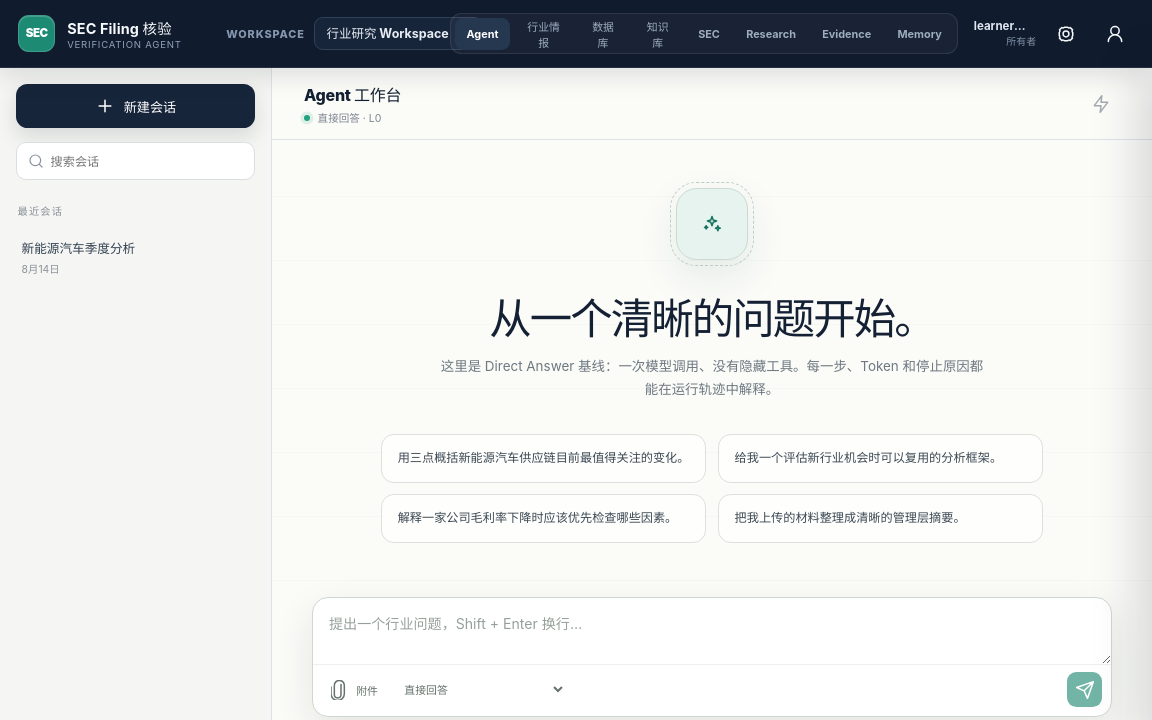
Chat Workbench › restores content and terminal status from an authoritative snapshot alone
Click the button "新能源汽车季度分析 8月14日".
click(132, 257)  # box x1=10 y1=227 x2=254 y2=288
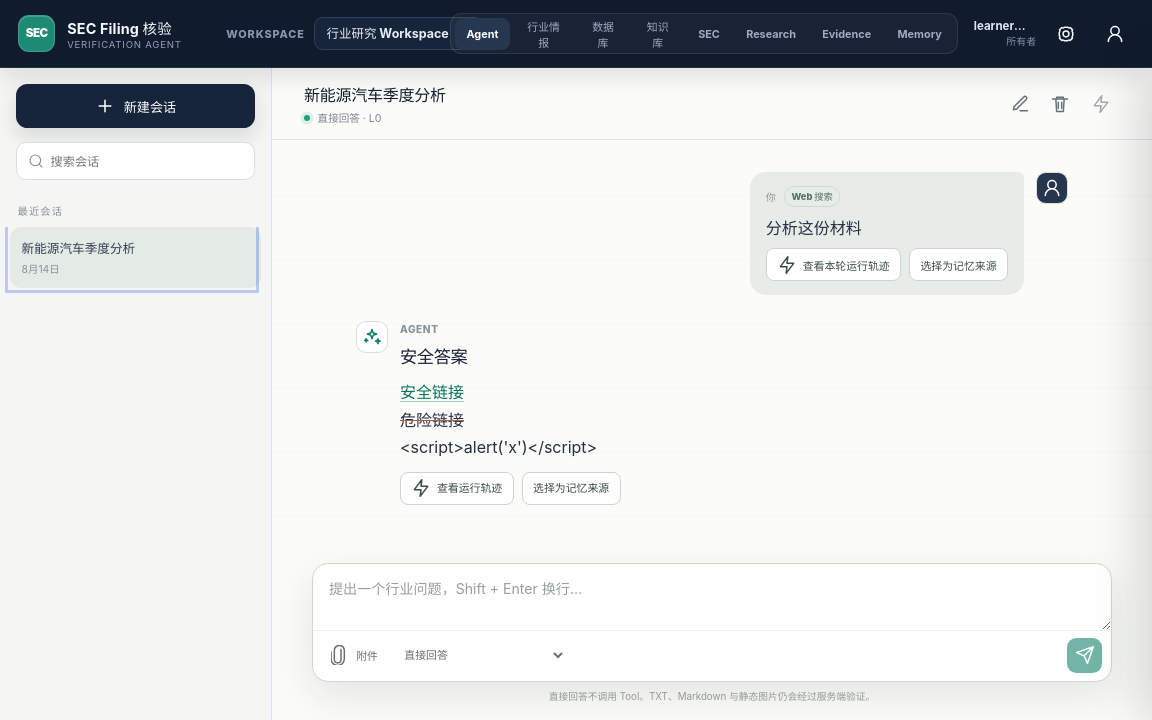
Now the heading "安全答案" is shown, box x1=400 y1=346 x2=467 y2=367
Type "请给我实时回答" into the text box named "输入问题".
click(712, 597); type("请给我实时回答")  # box x1=313 y1=564 x2=1111 y2=630
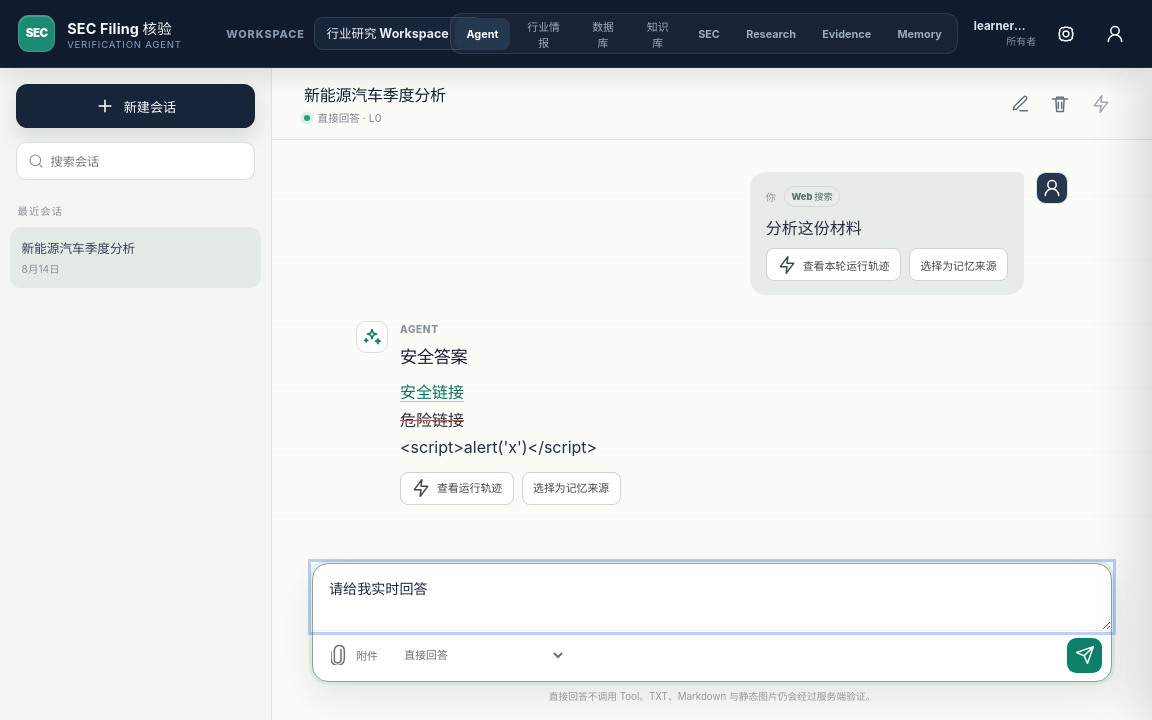
Click the button named "发送问题".
click(1085, 656)  # box x1=1067 y1=638 x2=1102 y2=673
(page scrolled)
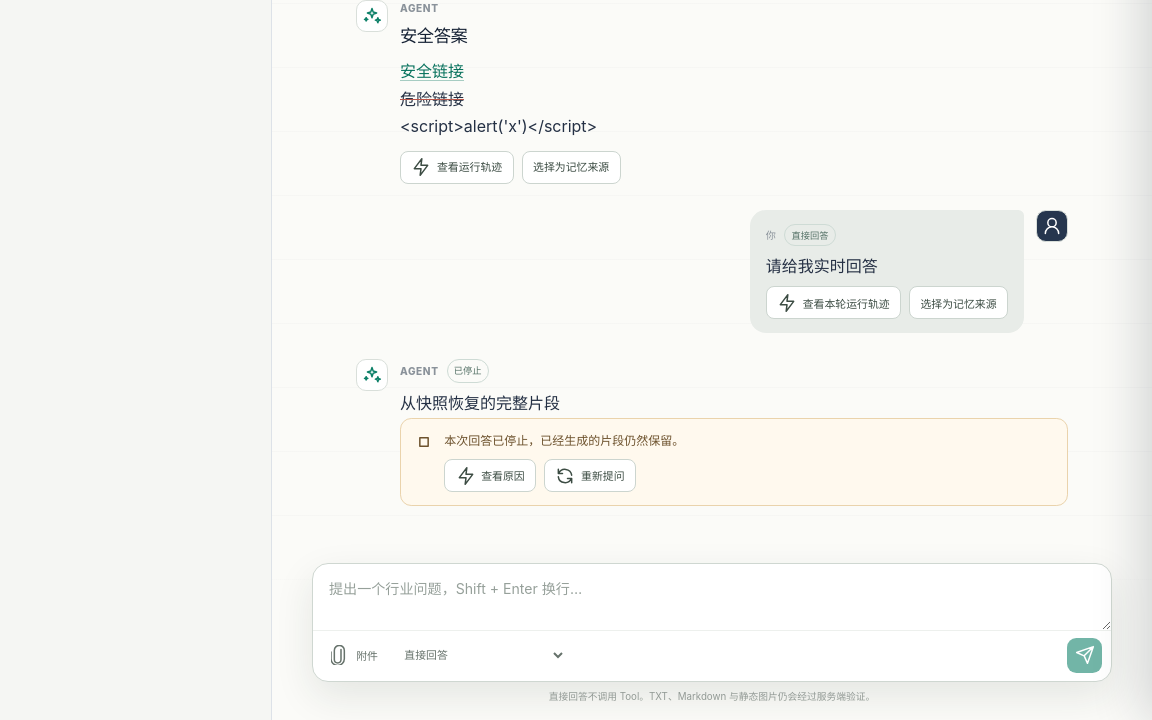
Now the text "从快照恢复的完整片段" is shown, box x1=400 y1=393 x2=560 y2=413
Now the text "本次回答已停止，已经生成的片段仍然保留。 查看原因 重新提问" is shown, box x1=444 y1=432 x2=684 y2=492
